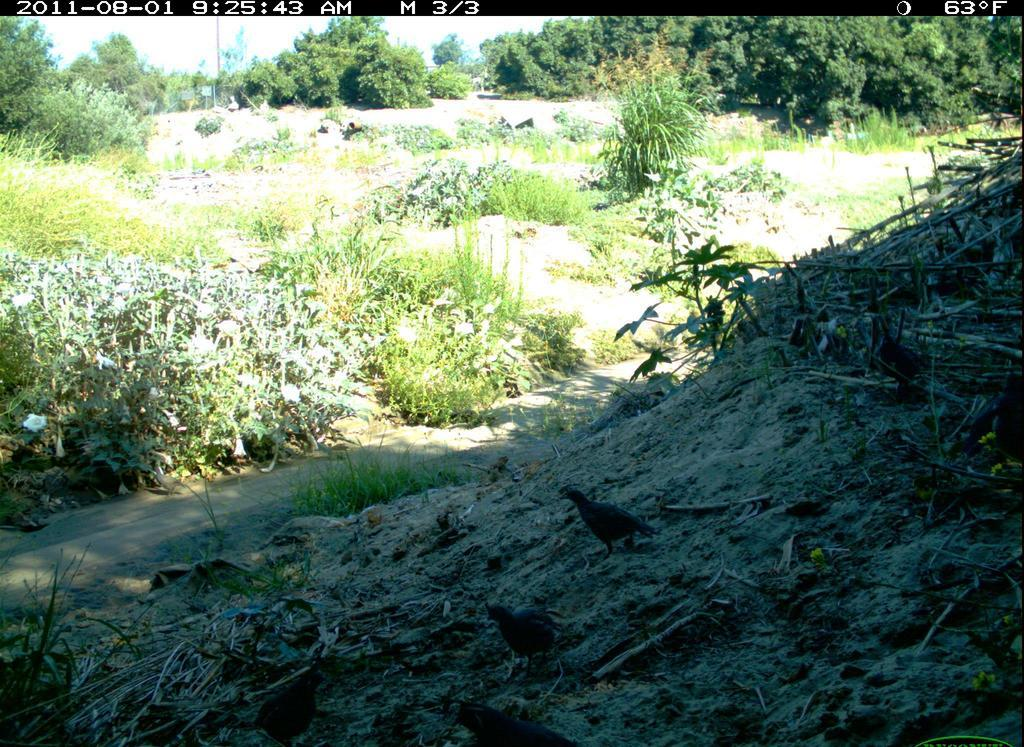bird: (558, 482, 658, 563), (439, 695, 587, 747), (252, 656, 331, 747), (953, 368, 1024, 466), (482, 597, 560, 685), (868, 331, 927, 400)
